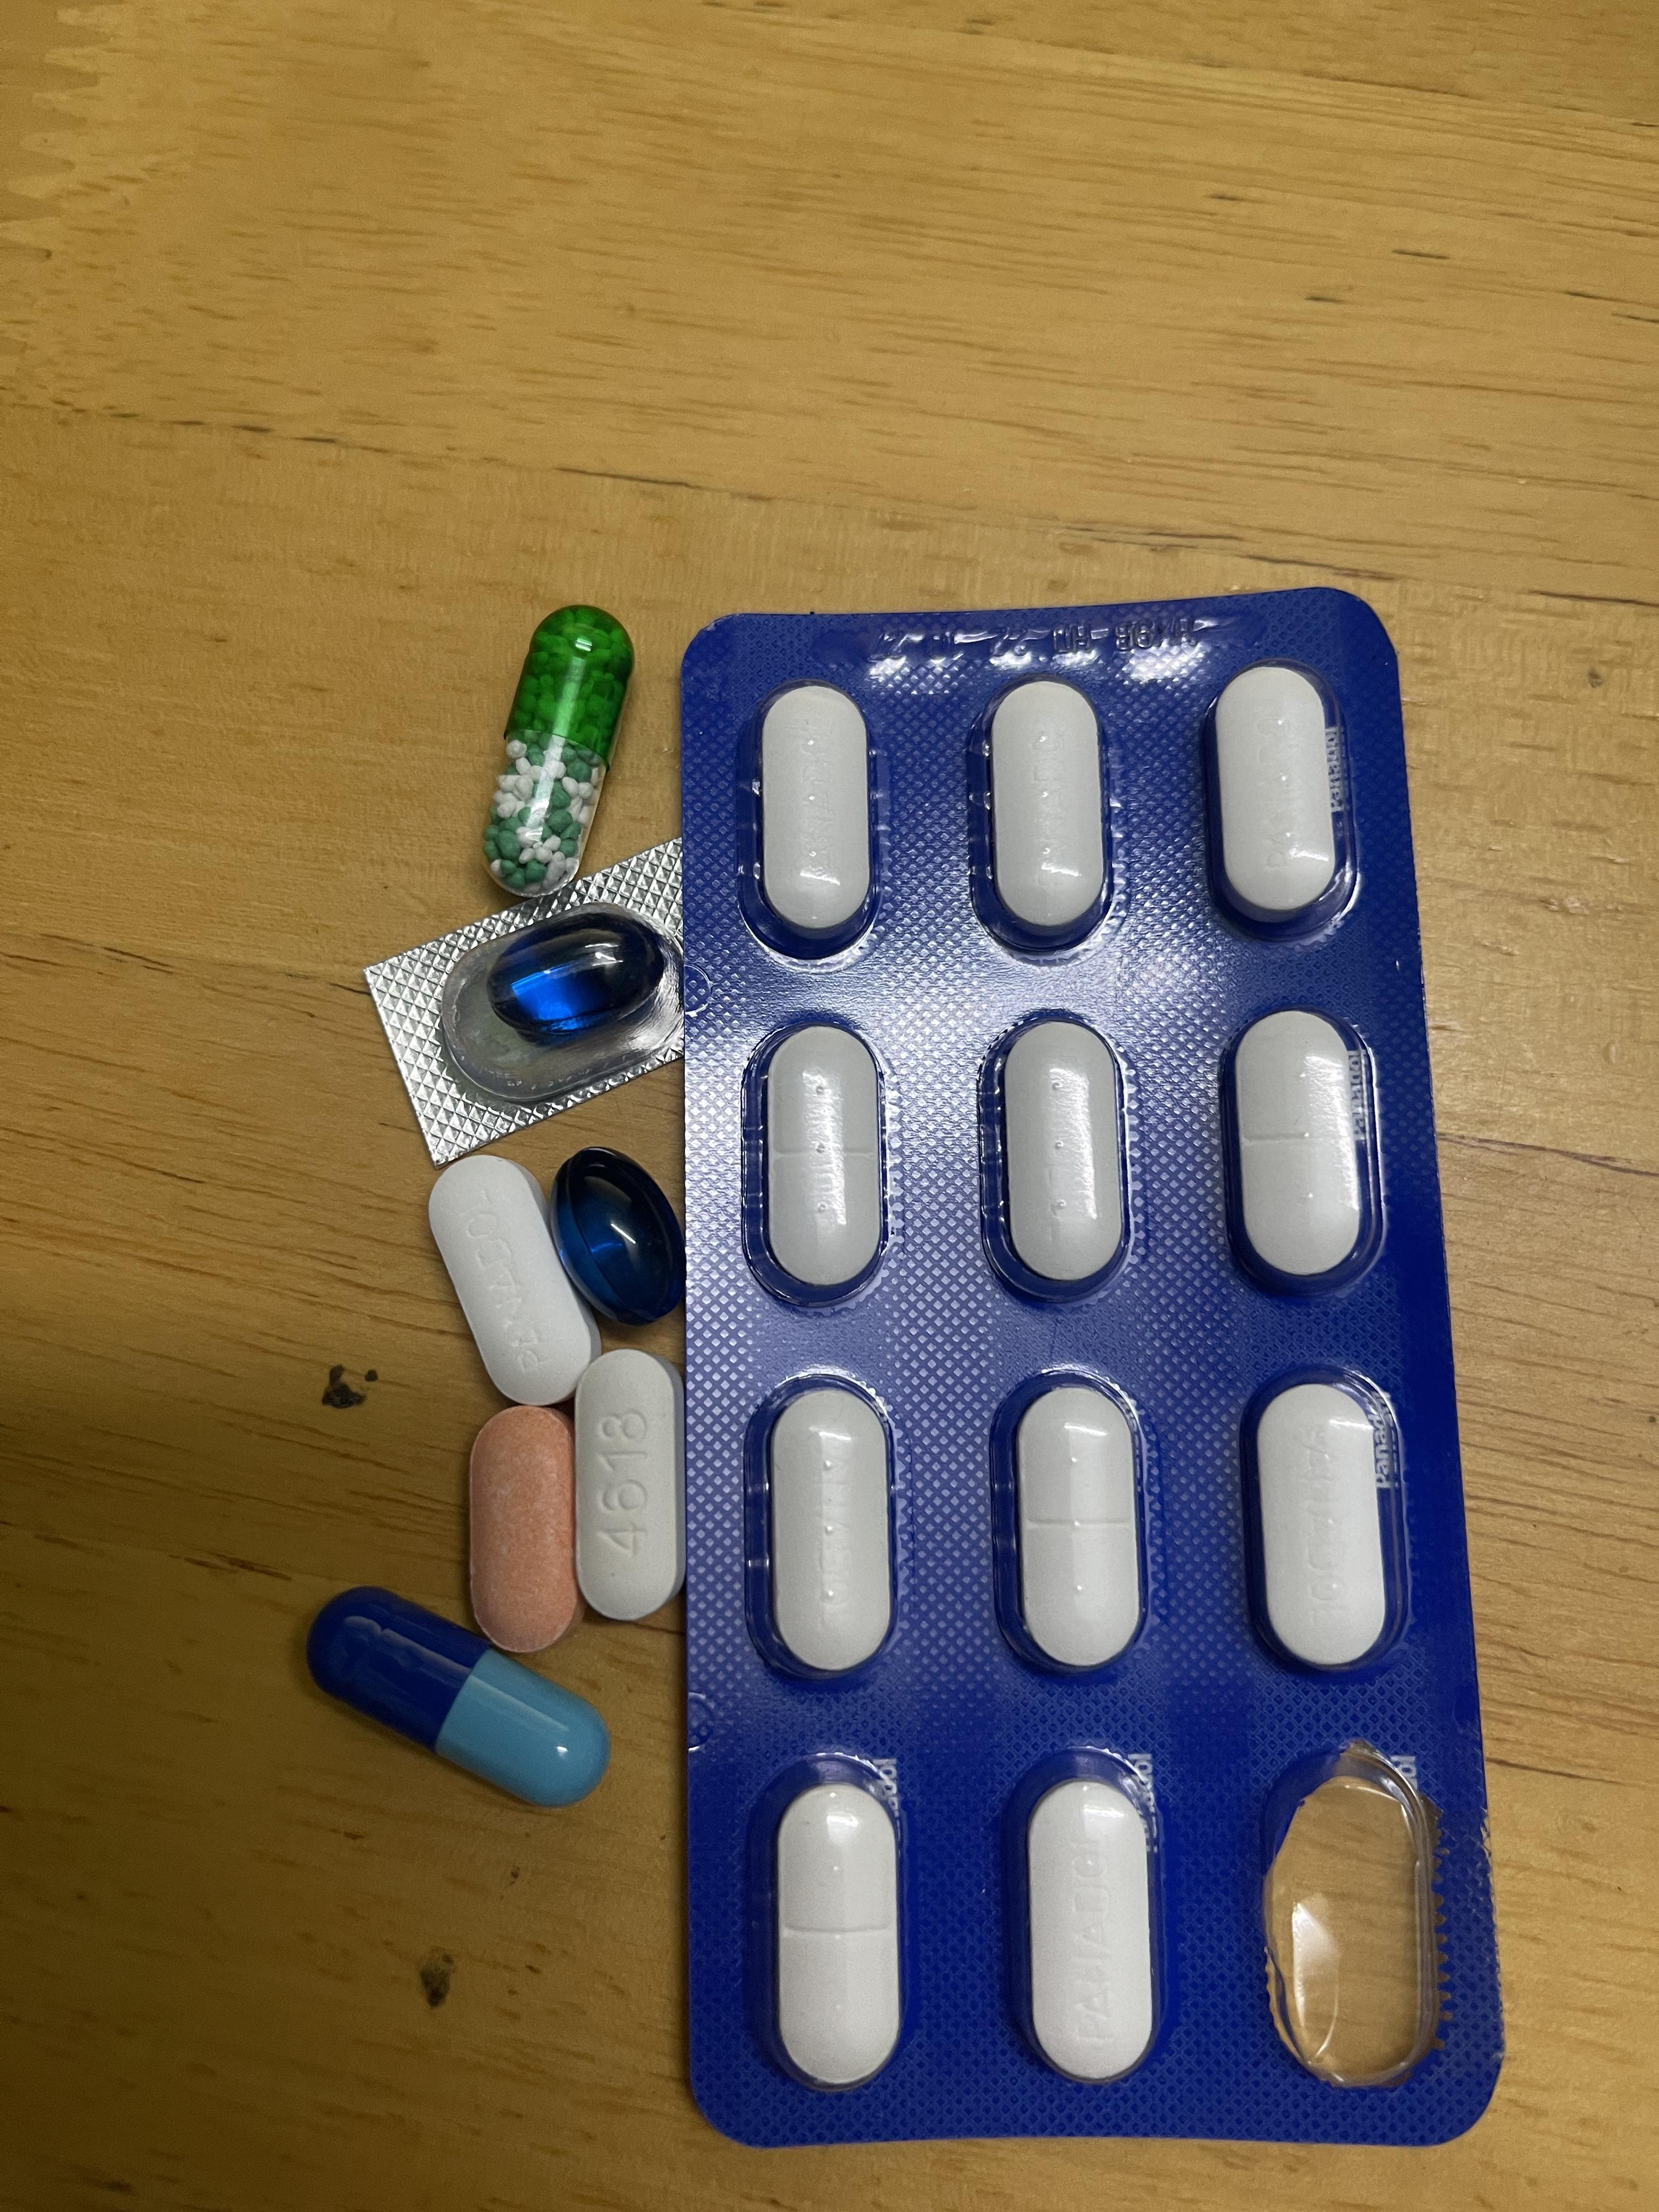Lincomyxin_500mg: (551, 1153, 678, 1329), (495, 916, 664, 1038)
Loratadine_10mg: (465, 1406, 579, 1641)
Paracetamol_350mg: (427, 1157, 599, 1407), (1018, 1770, 1155, 2083), (1253, 1379, 1396, 1676), (774, 1777, 903, 2092), (1232, 1014, 1371, 1292), (1014, 1393, 1145, 1676), (769, 1390, 894, 1679), (1211, 655, 1344, 925), (1002, 1024, 1127, 1299), (983, 674, 1107, 946), (765, 1029, 885, 1292), (760, 685, 871, 944)
Paracetamol_500mg: (570, 1352, 685, 1622)
Paracetamol_650mg: (483, 604, 633, 887)
pill: (315, 1599, 603, 1810)
